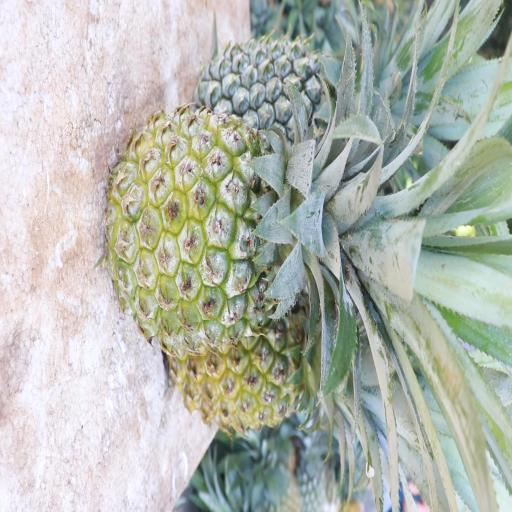------------------------------: (100, 103, 364, 353)
Pineapple - v8 v1: (160, 264, 390, 447)
